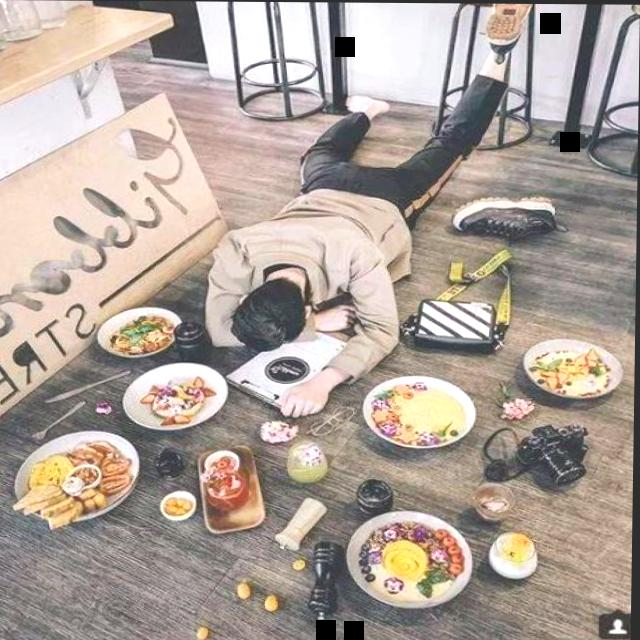Fall-Detected: (194, 1, 544, 416)
